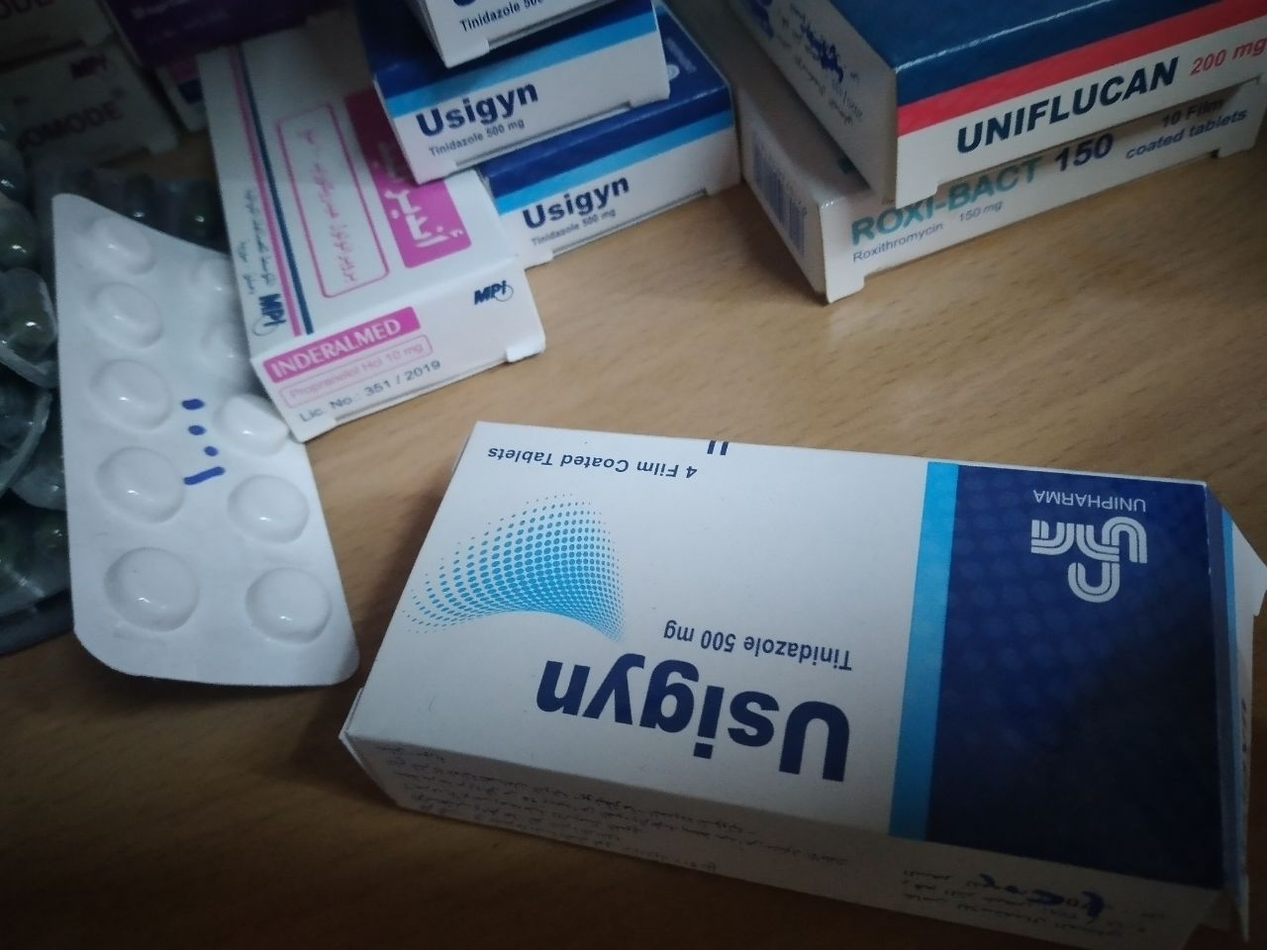Medicine: (334, 413, 1267, 943), (195, 0, 490, 445), (685, 0, 1267, 203), (789, 96, 1267, 324), (483, 64, 730, 277), (366, 15, 690, 163)
